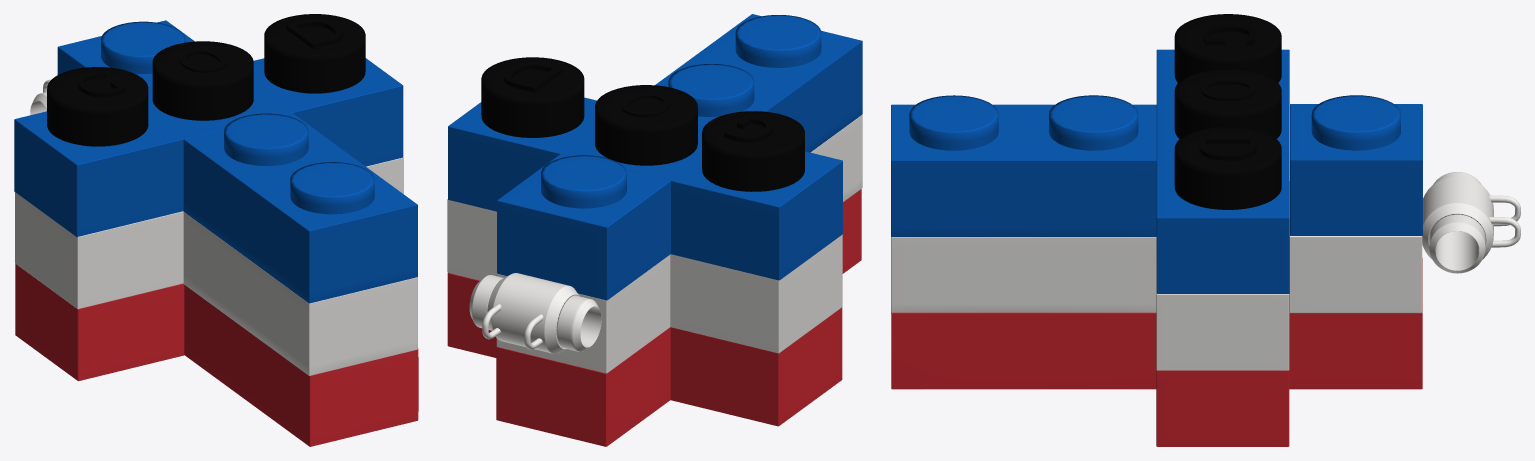
Rendered from smCross_compressed4.gltf.
3 views of the same model, side by side, from view 1: azimuth 30°, elevation 25°; view 2: azimuth 150°, elevation 25°; view 3: azimuth 270°, elevation 25° (orthographic). The views are drawn at different scales.
Parts seen in each view (by area): view 1: 1-2, 1-1, 2-2, 3-1, 2-1, 3-2, word3, word2, word1, 1-3; view 2: 1-1, 1-3, 1-2, 2-1, 2-3, 3-1, 3-2, word3, word2, word1, 3-3, 2-2; view 3: 1-2, 3-1, 2-2, 1-3, 2-3, 1-1, 2-1, 3-3, word3, word2, word1.
Boxes of the visible parts, left/top/right/bottom form: 1-2: left=183, top=113, right=417, bottom=303; 1-1: left=14, top=58, right=403, bottom=237; 2-2: left=183, top=212, right=417, bottom=375; 3-1: left=184, top=285, right=418, bottom=446; 2-1: left=15, top=157, right=403, bottom=308; 3-2: left=15, top=264, right=184, bottom=380; word3: left=264, top=14, right=365, bottom=93; word2: left=152, top=41, right=253, bottom=120; word1: left=47, top=67, right=148, bottom=146; 1-3: left=57, top=20, right=194, bottom=86; 1-1: left=448, top=97, right=842, bottom=280; 1-3: left=497, top=154, right=670, bottom=300; 1-2: left=655, top=14, right=862, bottom=152; 2-1: left=447, top=199, right=842, bottom=353; 2-3: left=469, top=255, right=670, bottom=373; 3-1: left=496, top=189, right=861, bottom=446; 3-2: left=670, top=307, right=842, bottom=426; word3: left=481, top=57, right=584, bottom=137; word2: left=595, top=85, right=697, bottom=165; word1: left=702, top=111, right=804, bottom=191; 3-3: left=447, top=273, right=496, bottom=357; 2-2: left=811, top=114, right=862, bottom=201; 1-2: left=891, top=95, right=1156, bottom=236; 3-1: left=891, top=258, right=1422, bottom=389; 2-2: left=891, top=237, right=1156, bottom=313; 1-3: left=1290, top=95, right=1422, bottom=235; 2-3: left=1289, top=172, right=1520, bottom=312; 1-1: left=1156, top=49, right=1289, bottom=293; 2-1: left=1156, top=237, right=1289, bottom=370; 3-3: left=1156, top=370, right=1289, bottom=446; word3: left=1174, top=126, right=1281, bottom=209; word2: left=1174, top=68, right=1281, bottom=138; word1: left=1174, top=14, right=1281, bottom=82.
Size of the model in its own units: 0.024 by 0.0183 by 0.0379.
